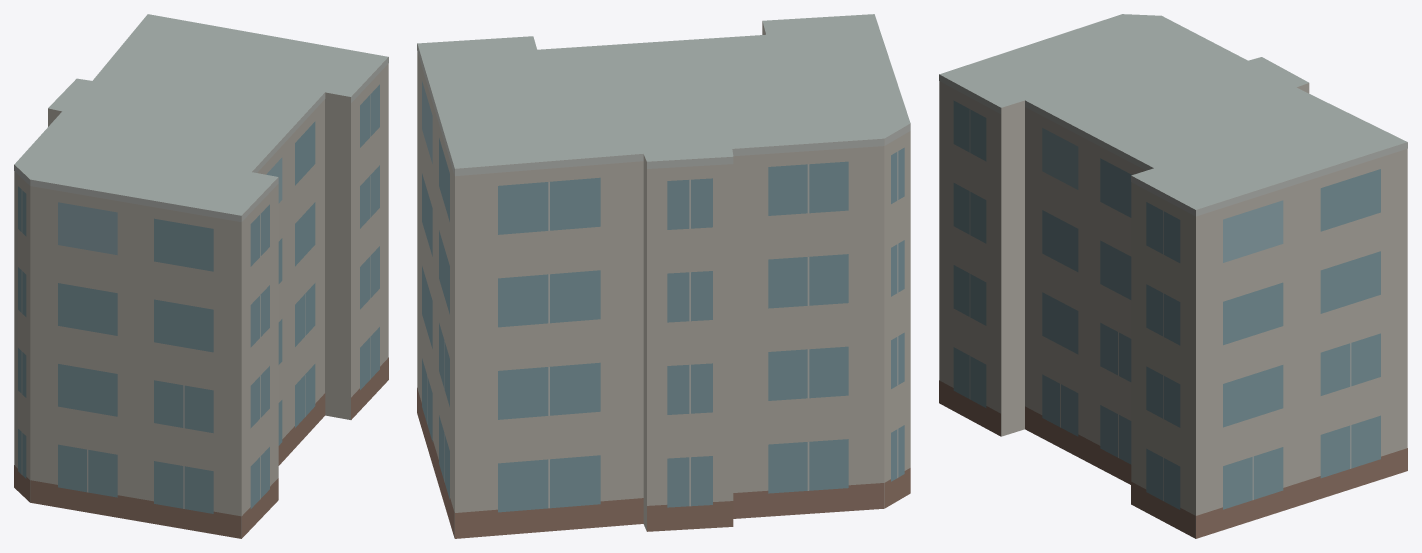
The model's file is survey-upis-32739272.glb.
3 renders of one model, left to right at view 1: azimuth 30°, elevation 25°; view 2: azimuth 150°, elevation 25°; view 3: azimuth 270°, elevation 25°, orthographic. The views are drawn at different scales.
Visible parts, largest first — view 1: survey-upis-32739272.tmp; view 2: survey-upis-32739272.tmp; view 3: survey-upis-32739272.tmp.
Boxes of the visible parts, box(x1,y1,x2,y2) form: survey-upis-32739272.tmp: box(14, 14, 388, 538); survey-upis-32739272.tmp: box(417, 14, 910, 538); survey-upis-32739272.tmp: box(939, 14, 1407, 538).
Bounding box in the file's own units: 15.6 × 12.2 × 15.76.
